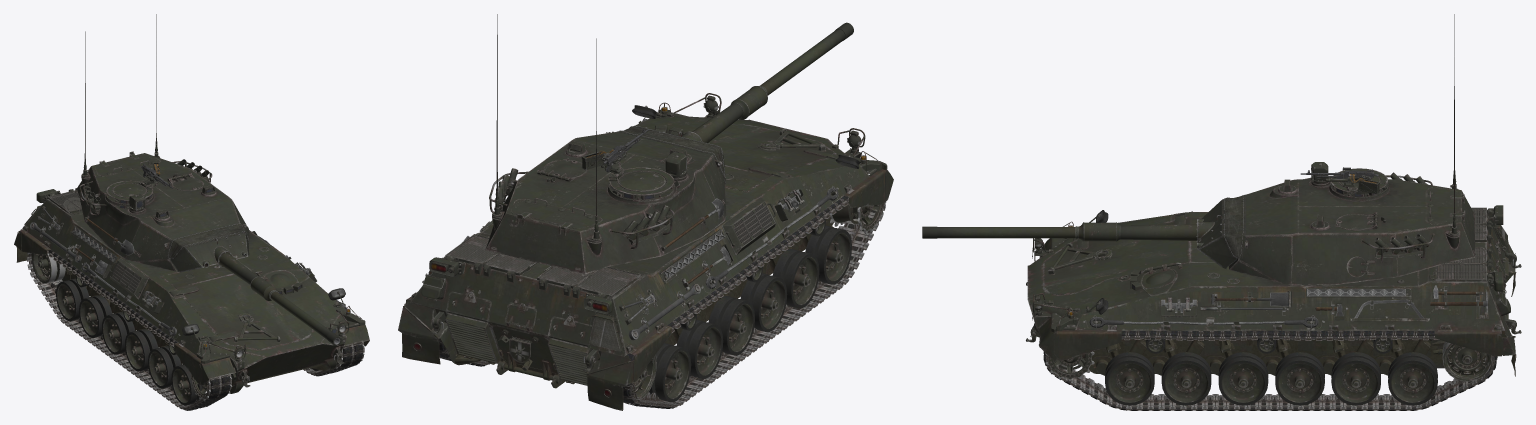
Rendered from tam_tank.glb.
3 views of the same model, side by side, from view 1: azimuth 30°, elevation 25°; view 2: azimuth 150°, elevation 25°; view 3: azimuth 270°, elevation 25° (orthographic). The views are drawn at different scales.
Visible parts, largest first — view 1: Object_11, Object_24, Object_16, Object_12, Object_5, Object_21, Object_13, Object_14, Object_25, Object_17, Object_18, Object_15 (+4 smaller); view 2: Object_11, Object_24, Object_16, Object_17, Object_12, Object_5, Object_14, Object_13, Object_15, Object_22, Object_25, Object_21 (+4 smaller); view 3: Object_11, Object_24, Object_15, Object_16, Object_7, Object_12, Object_21, Object_17, Object_25, Object_14, Object_19, Object_22.
Part boxes in pixels (<box>): Object_11: <box>23,192,365,393</box>; Object_24: <box>76,141,249,271</box>; Object_16: <box>18,225,316,384</box>; Object_12: <box>22,188,365,380</box>; Object_5: <box>26,250,231,410</box>; Object_21: <box>168,231,341,345</box>; Object_13: <box>31,253,232,400</box>; Object_14: <box>102,312,364,405</box>; Object_25: <box>85,153,203,255</box>; Object_17: <box>14,189,349,367</box>; Object_18: <box>30,222,236,385</box>; Object_15: <box>237,235,369,387</box>; Object_11: <box>410,97,869,375</box>; Object_24: <box>485,130,726,274</box>; Object_16: <box>405,124,888,381</box>; Object_17: <box>445,93,865,410</box>; Object_12: <box>412,99,887,388</box>; Object_5: <box>623,175,885,408</box>; Object_14: <box>708,225,851,355</box>; Object_13: <box>631,201,886,402</box>; Object_15: <box>398,105,819,364</box>; Object_22: <box>449,204,772,311</box>; Object_25: <box>510,158,723,249</box>; Object_21: <box>633,22,853,184</box>; Object_11: <box>1027,210,1505,405</box>; Object_24: <box>1229,168,1475,285</box>; Object_15: <box>1026,245,1521,405</box>; Object_16: <box>1043,211,1508,356</box>; Object_7: <box>1043,331,1497,410</box>; Object_12: <box>1030,205,1516,373</box>; Object_21: <box>922,198,1238,269</box>; Object_17: <box>1032,207,1521,360</box>; Object_25: <box>1336,176,1463,230</box>; Object_14: <box>1045,338,1392,381</box>; Object_19: <box>1222,14,1454,258</box>; Object_22: <box>1436,208,1499,279</box>.
Size of the model in its own units: 3.22 by 5.02 by 8.25.
16 materials, 16 textured.
